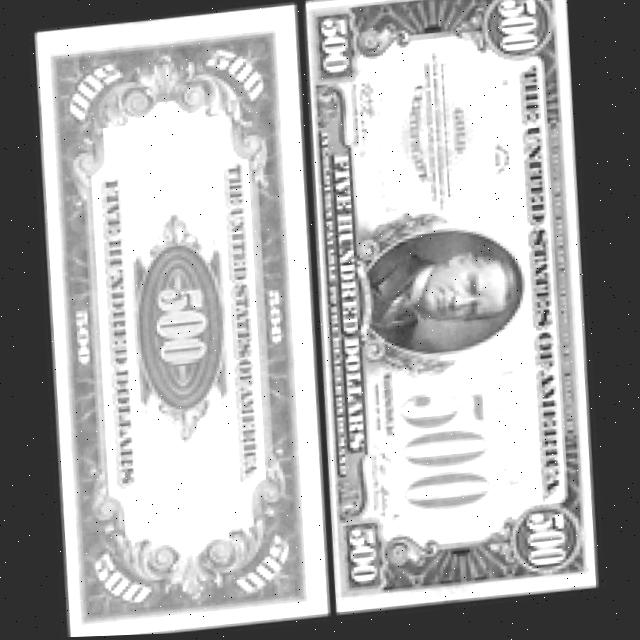banknote: (29, 2, 341, 639), (293, 0, 609, 618)
